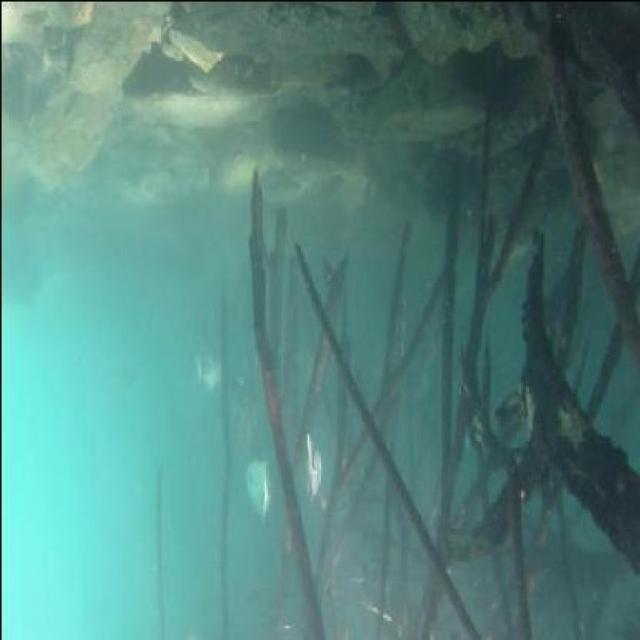Caranx_sexfasciatus_juvenile: (296, 419, 324, 515), (244, 452, 276, 532), (188, 335, 222, 396), (227, 382, 255, 449)
